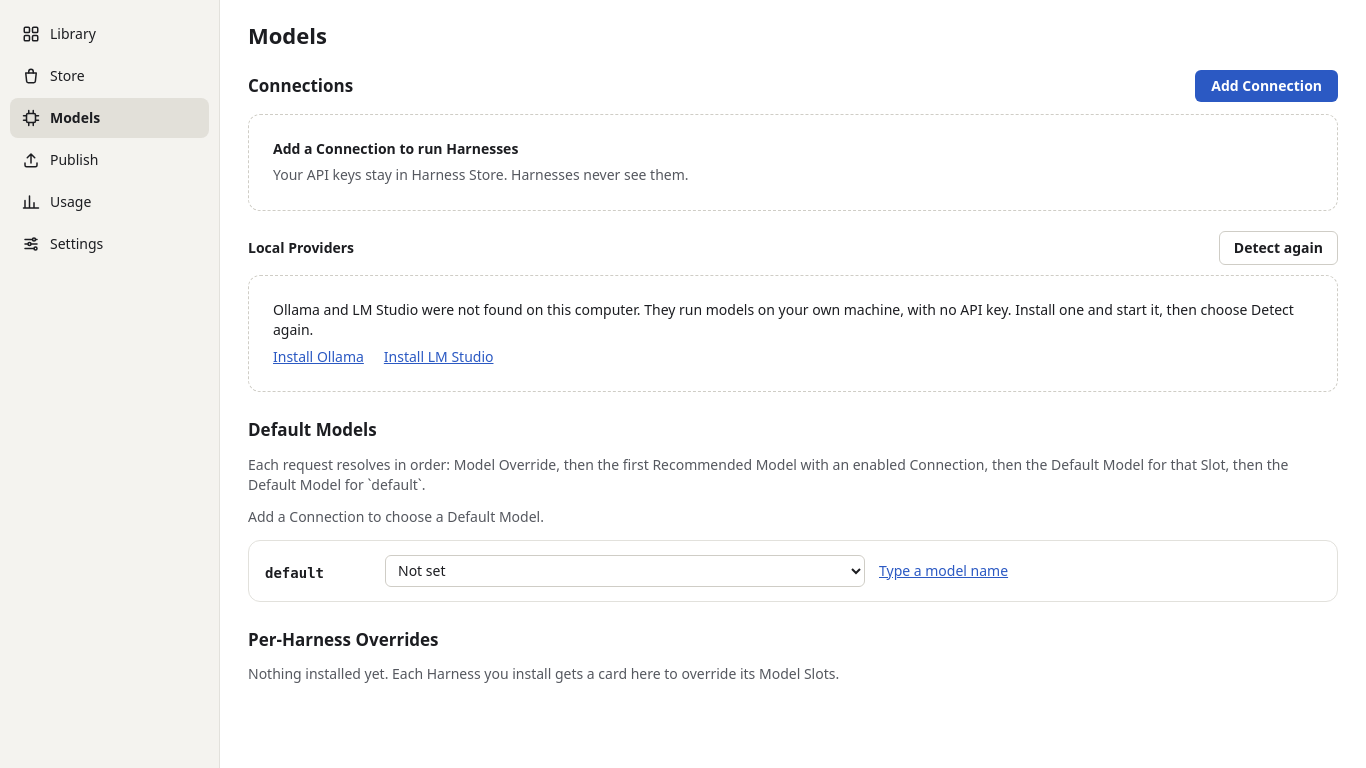
Models page: Local Providers › Detect again probes again and shows what is running now
Expected: the text "were not found" is shown, x1=273 y1=300 x2=1294 y2=339
Click the button "Detect again".
click(1278, 248)  # box x1=1219 y1=231 x2=1338 y2=265
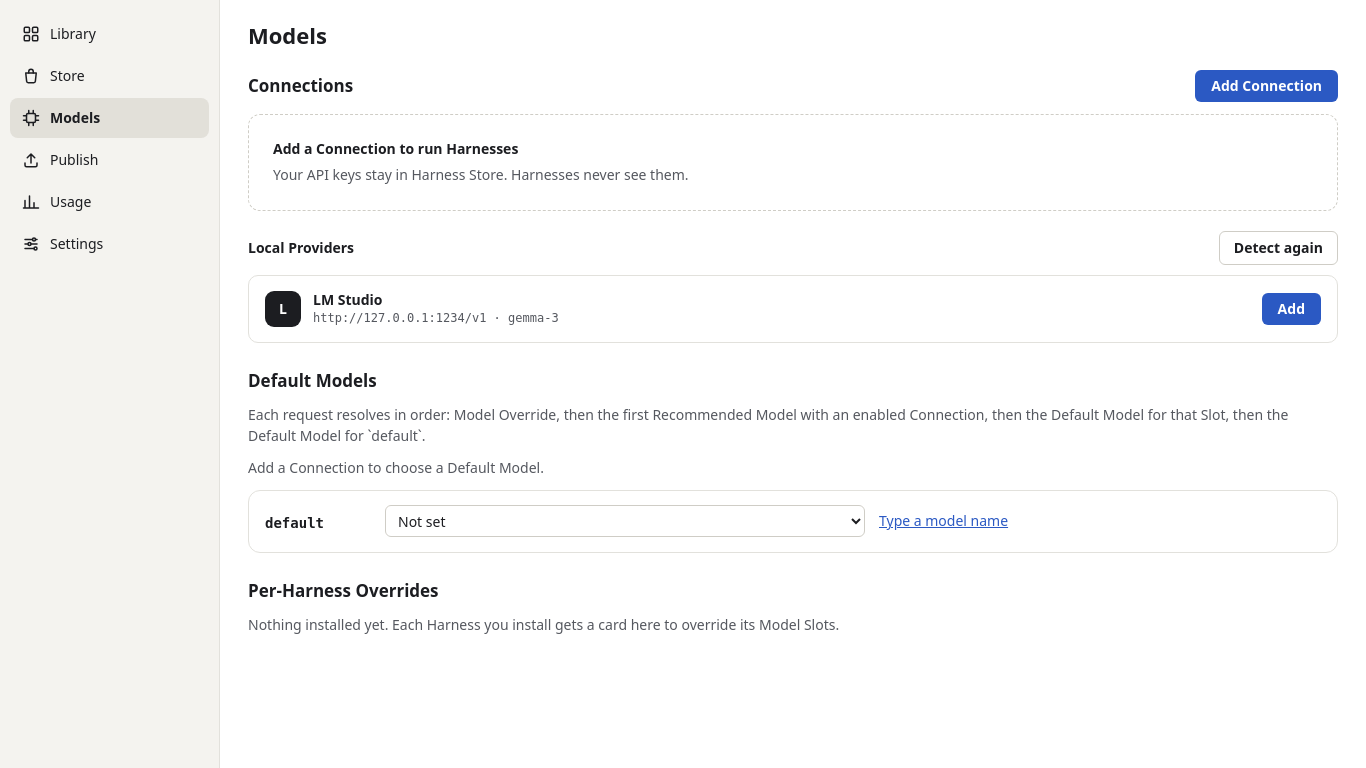
Expected: the text "were not found" is gone
Expected: the button named "Add LM Studio" is shown, x1=1262 y1=293 x2=1321 y2=325
